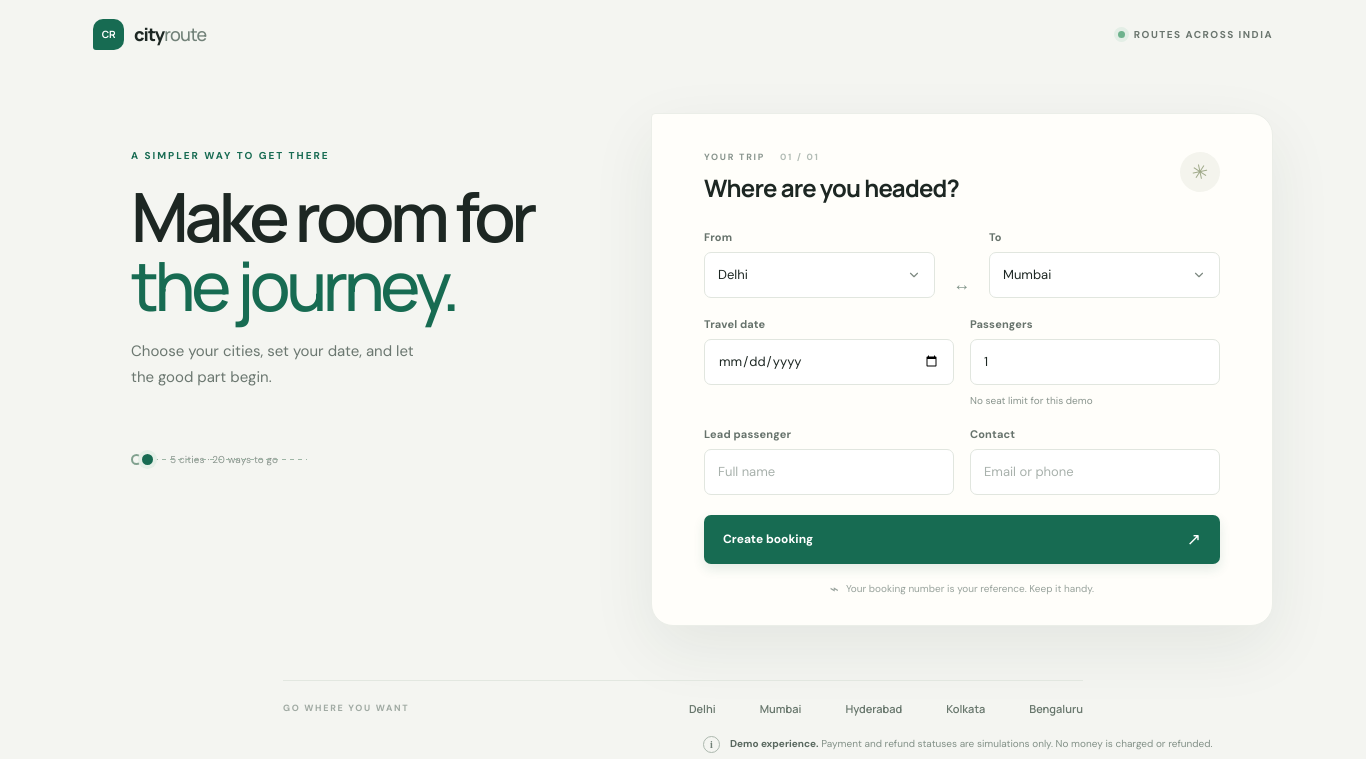
Scenario: booking interface › does not claim a refund when an unpaid booking is cancelled
In the date field labelled "Travel date": (829, 362) [704,339,954,385], type "2027-03-14"
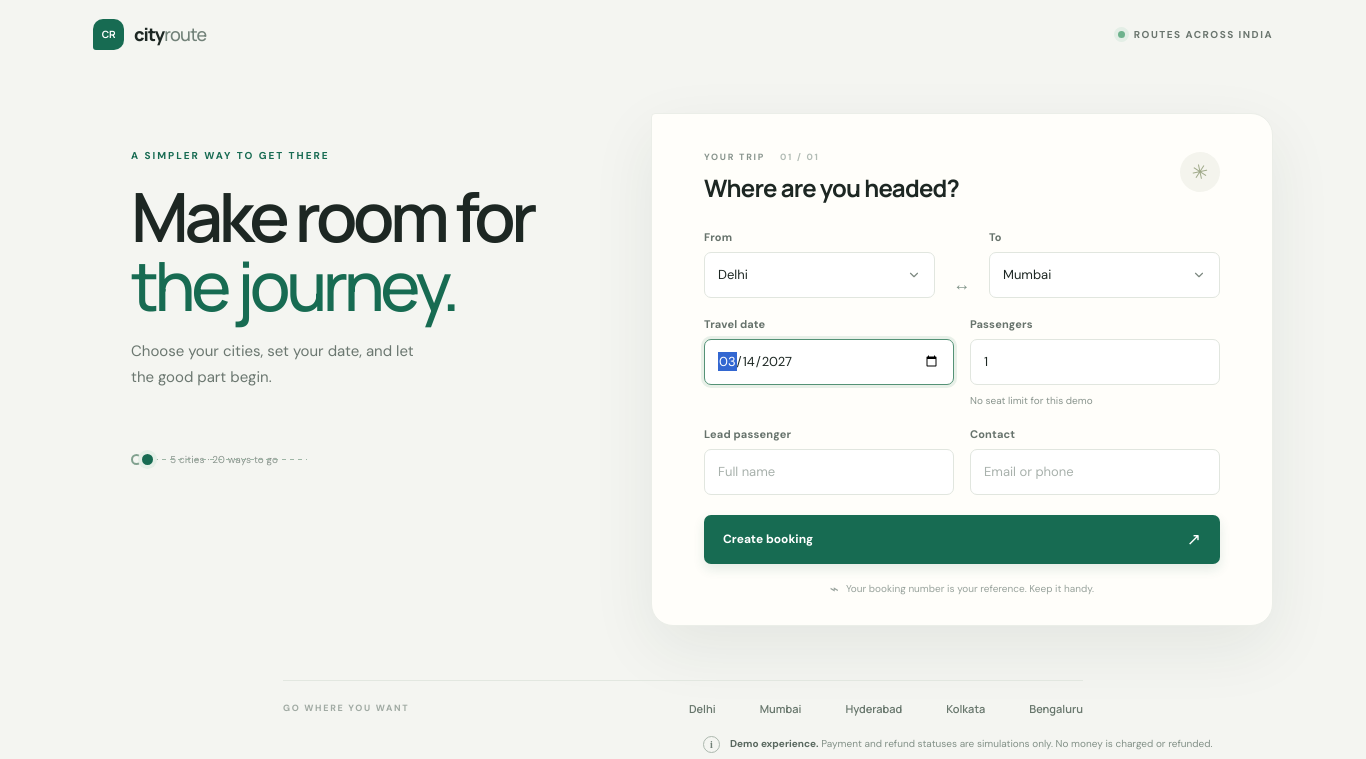
In the field labelled "Lead passenger": (829, 472) [704,449,954,495], type "Ada Lovelace"
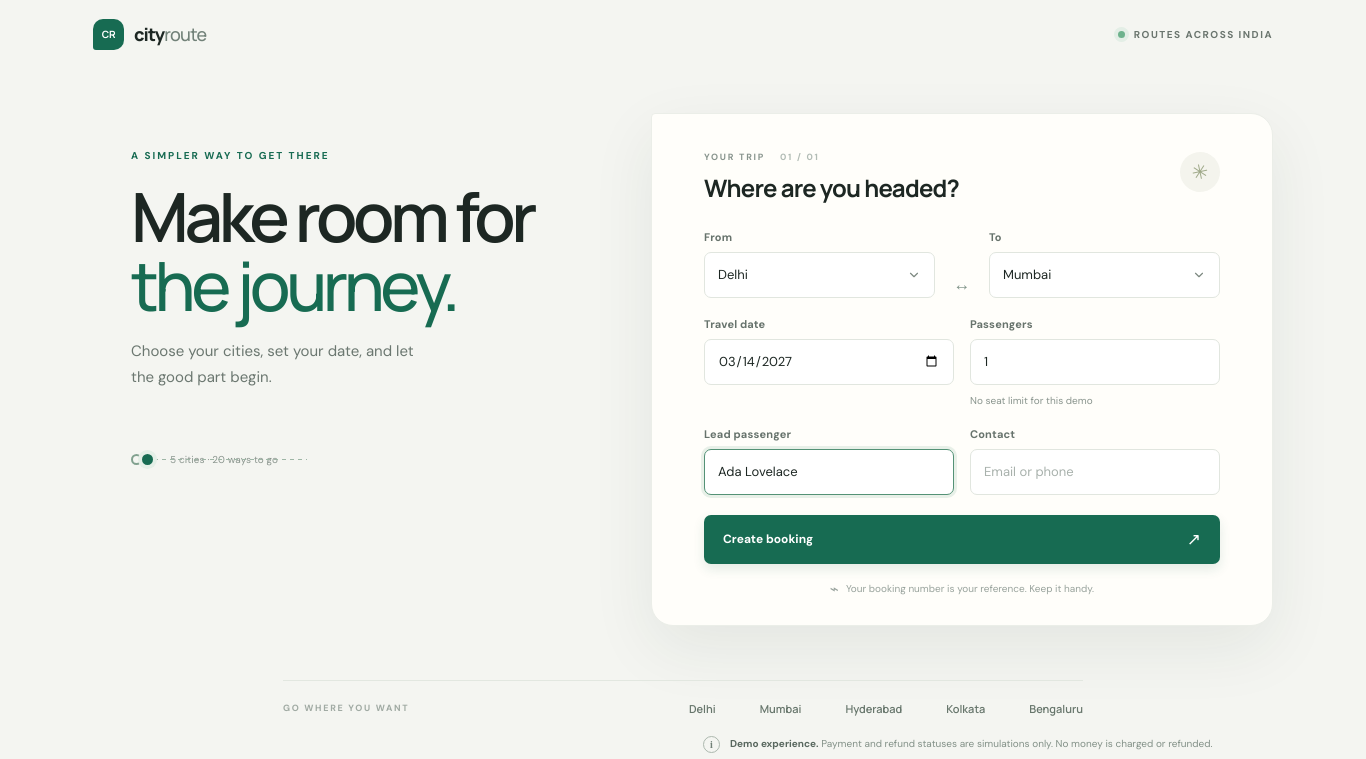
In the field labelled "Contact": (1095, 472) [970,449,1220,495], type "ada@example.test"
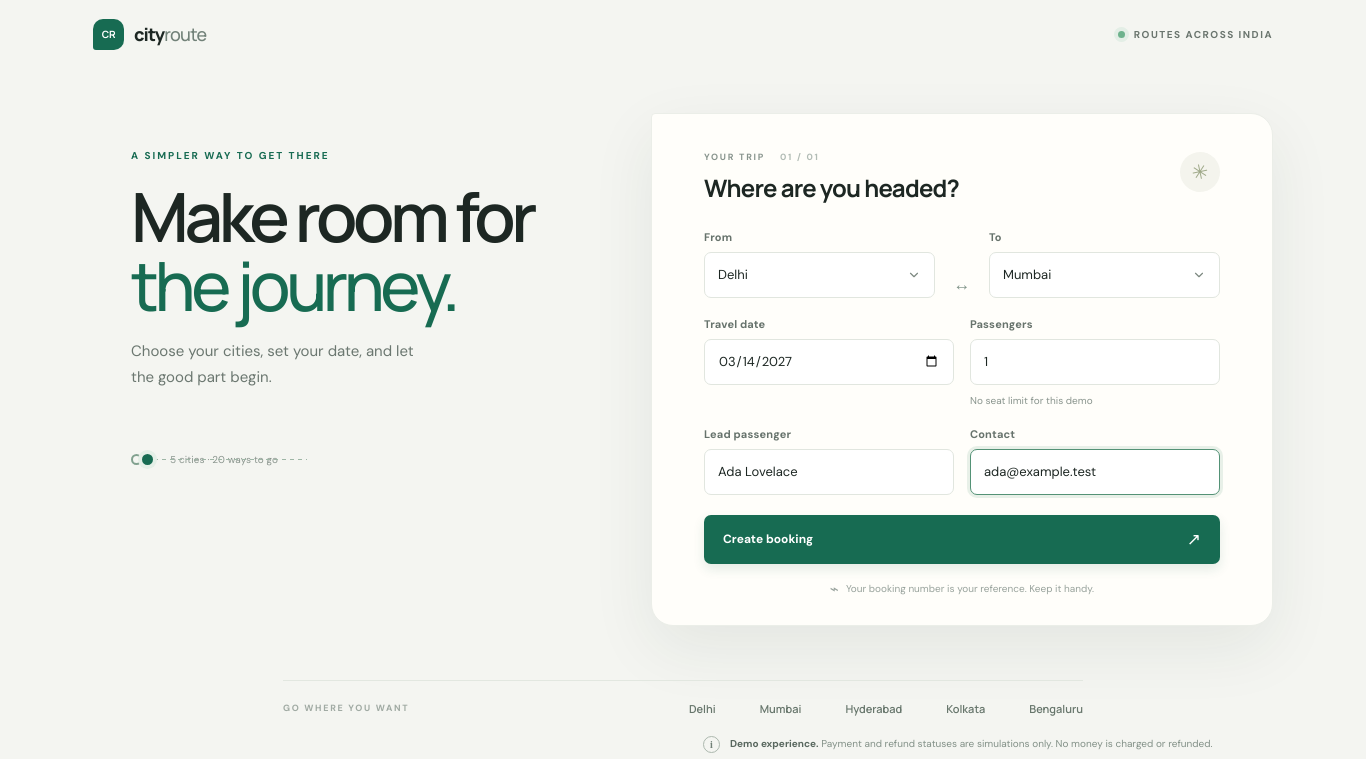
Click the button "Create booking ↗": (768, 539) [704,515,1220,564]
(page scrolled)
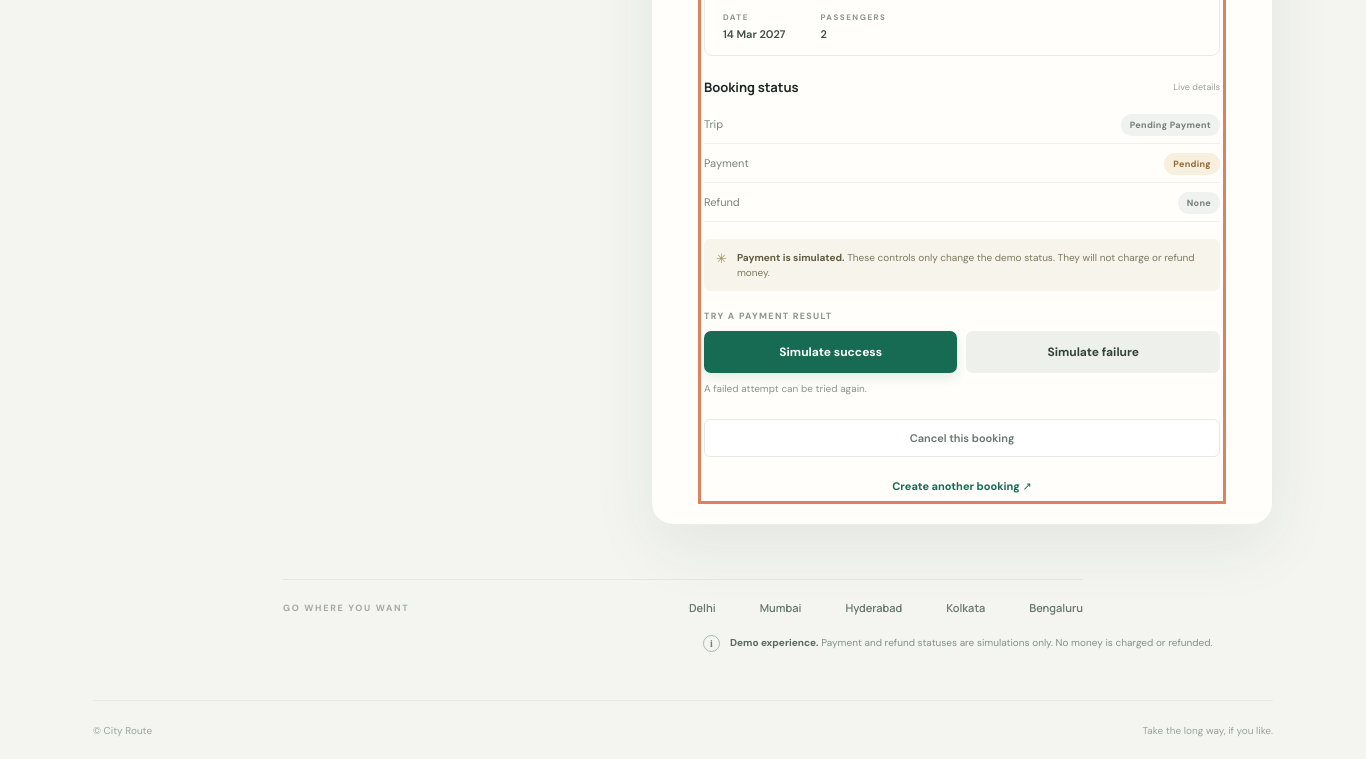
Click the button "Cancel this booking": (962, 438) [704,419,1220,457]
(page scrolled)
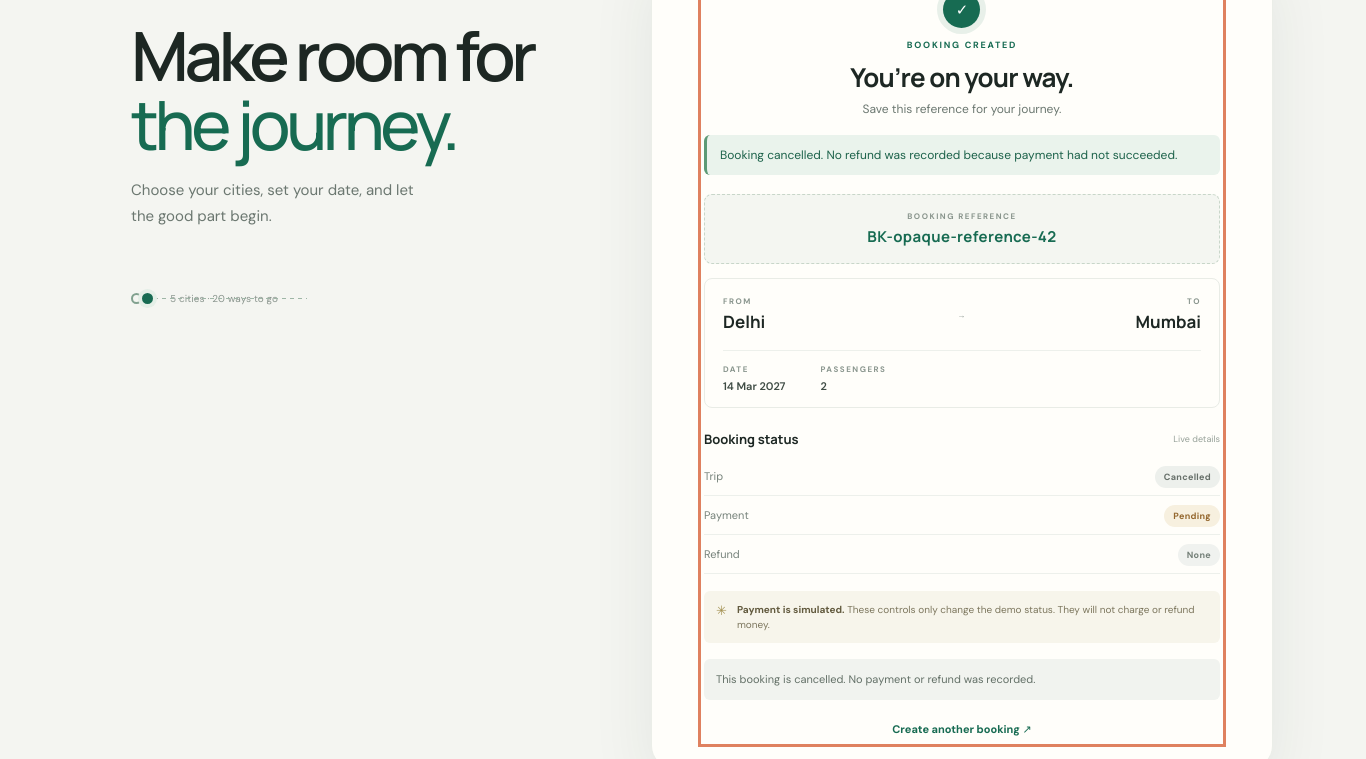
Expected: the text "None" is shown, [1178,544,1220,566]
Expected: the text "This booking is cancelled. No payment or refund was recorded." is shown, [704,659,1220,700]
